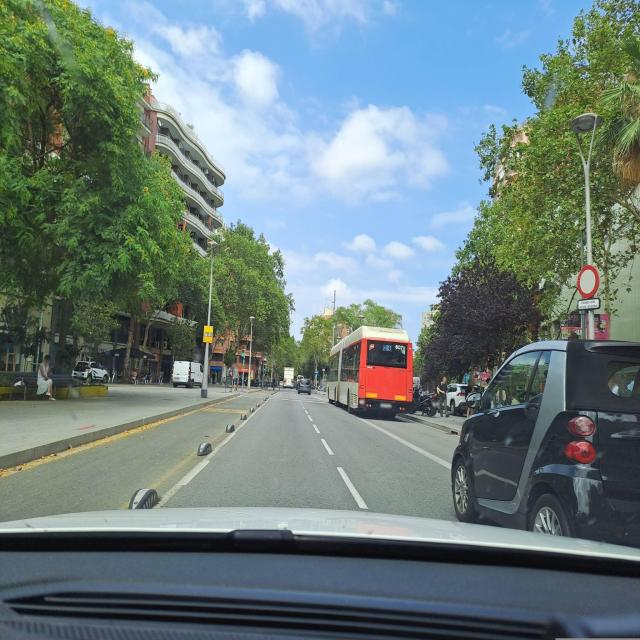car: (451, 338, 640, 552), (441, 383, 474, 414), (172, 358, 204, 388), (70, 360, 110, 384), (453, 392, 484, 418), (296, 378, 312, 395)
